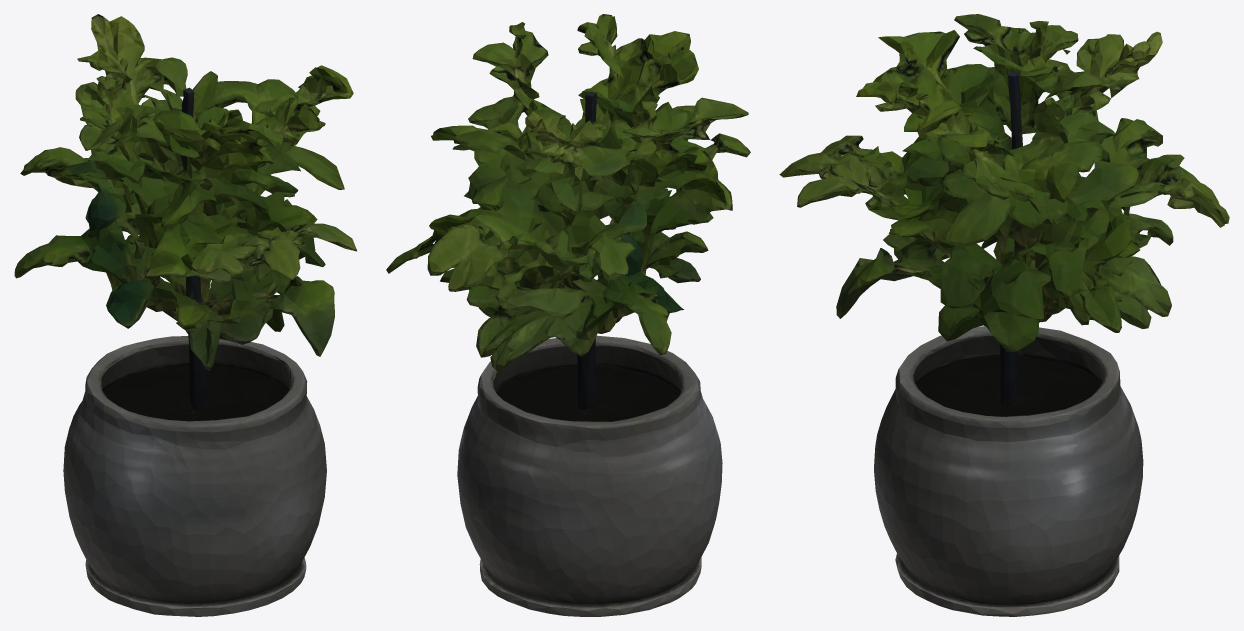
The model's file is ast_4aec4a8b4da8.glb.
3 renders of one model, left to right at view 1: azimuth 30°, elevation 25°; view 2: azimuth 150°, elevation 25°; view 3: azimuth 270°, elevation 25°, orthographic. The views are drawn at different scales.
Visible parts, largest first — view 1: geometry_0; view 2: geometry_0; view 3: geometry_0.
Part boxes in pixels (left/top/right/bottom): geometry_0: left=14, top=14, right=356, bottom=616; geometry_0: left=386, top=14, right=750, bottom=616; geometry_0: left=779, top=14, right=1229, bottom=616.
Bounding box in the file's own units: 0.4311 × 0.7422 × 0.5759.
1 material, 1 textured.
